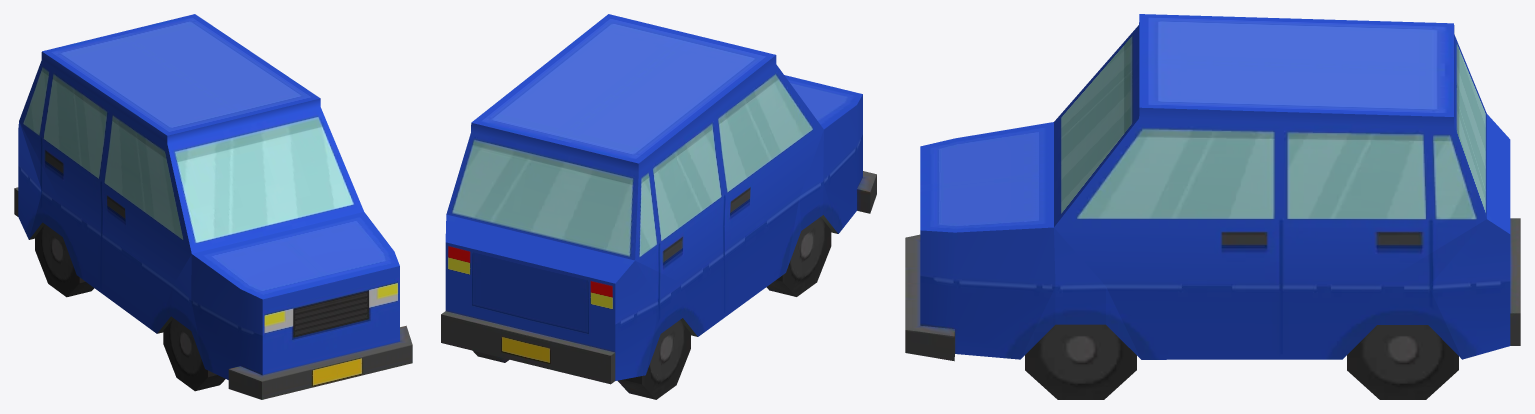
Rendered from city_car_blue.glb.
3 renders of one model, left to right at view 1: azimuth 30°, elevation 25°; view 2: azimuth 150°, elevation 25°; view 3: azimuth 270°, elevation 25°, orthographic. The views are drawn at different scales.
Visible parts, largest first — view 1: polySurface84; view 2: polySurface84; view 3: polySurface84.
Boxes of the visible parts, x1,y1,x2,y2 form: polySurface84: [14, 14, 412, 399]; polySurface84: [441, 14, 876, 399]; polySurface84: [905, 14, 1520, 399].
Size of the model in its own units: 1.52 by 1.88 by 3.63.
1 material, 1 textured.
